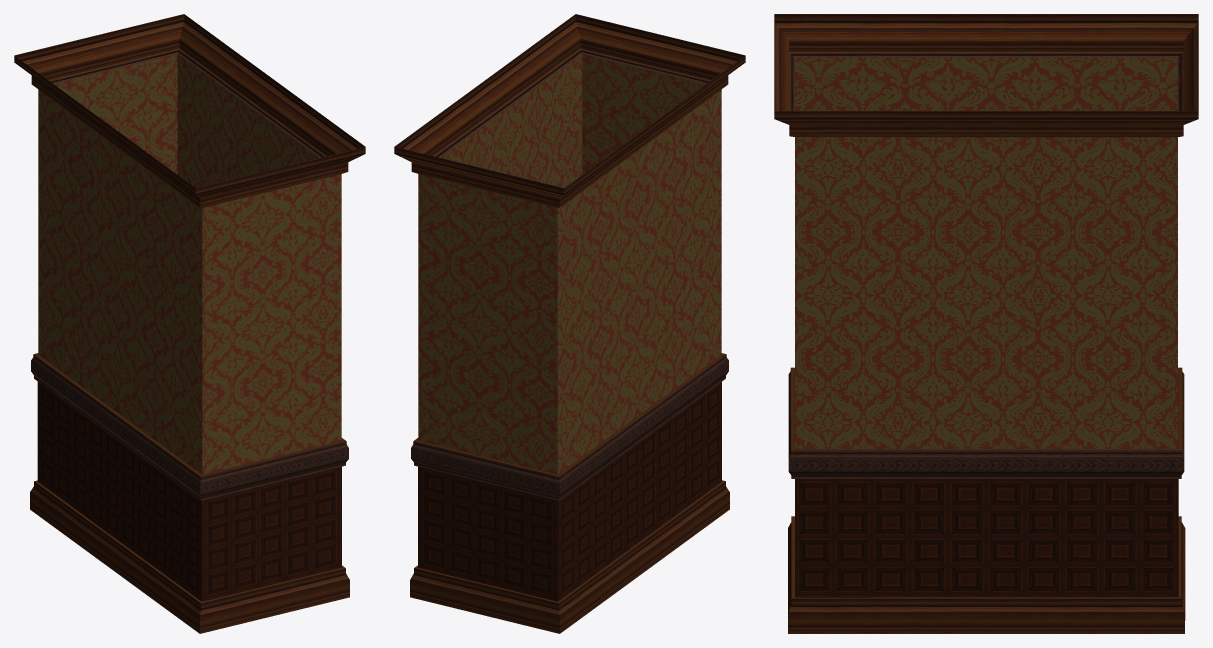
Rendered from Wall1Cube.fbx.
3 renders of one model, left to right at view 1: azimuth 30°, elevation 25°; view 2: azimuth 150°, elevation 25°; view 3: azimuth 270°, elevation 25°, orthographic. The views are drawn at different scales.
Visible parts, largest first — view 1: Wall 1 CUBE; view 2: Wall 1 CUBE; view 3: Wall 1 CUBE.
Part boxes in pixels (left/top/right/bottom): Wall 1 CUBE: left=14, top=14, right=365, bottom=633; Wall 1 CUBE: left=394, top=14, right=745, bottom=633; Wall 1 CUBE: left=774, top=14, right=1198, bottom=633.
Bounding box in the file's own units: 111 × 281 × 205.
